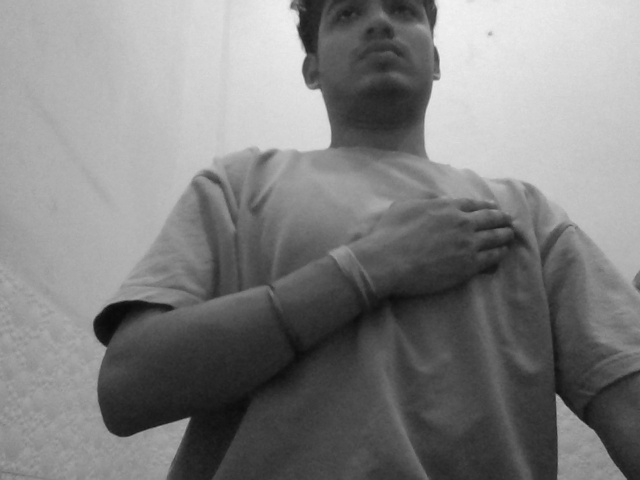Sorry: (333, 169, 554, 322)
